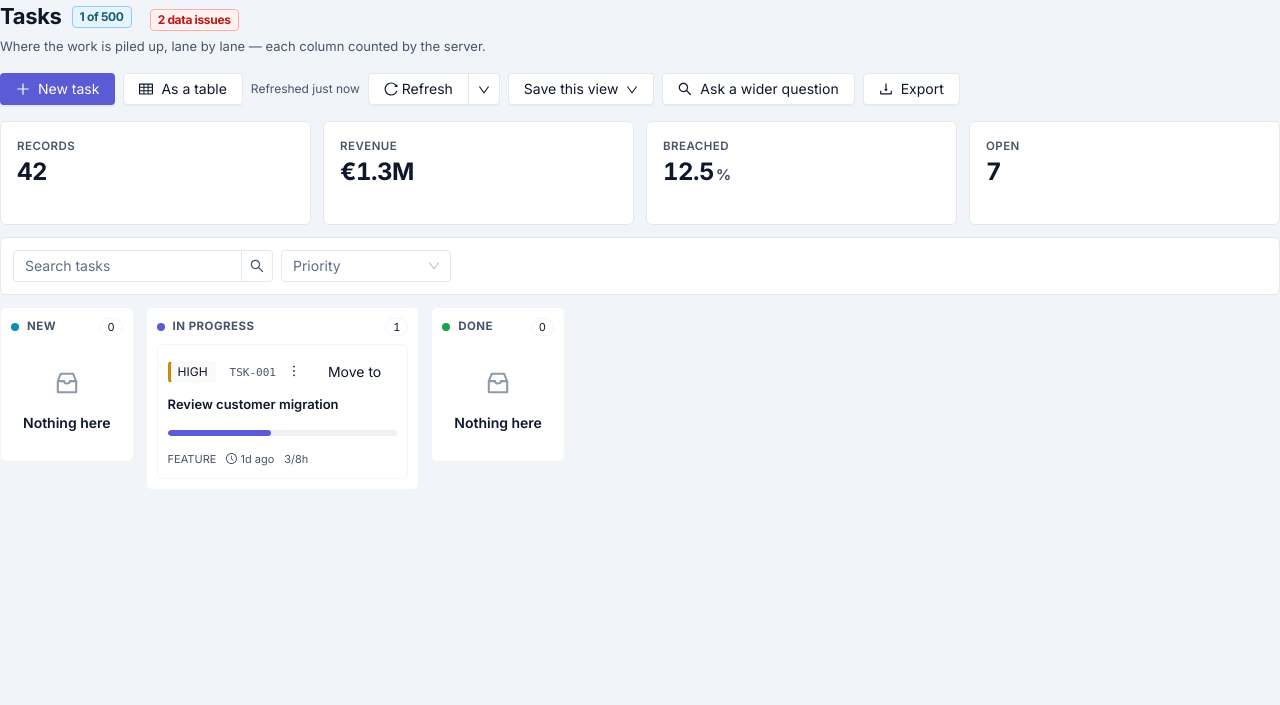
the edit form, before it has anything to show › retries a fault, and does not offer a retry for a refusal
Click the button named "Actions for " at [294, 371], box [282,359,306,383]
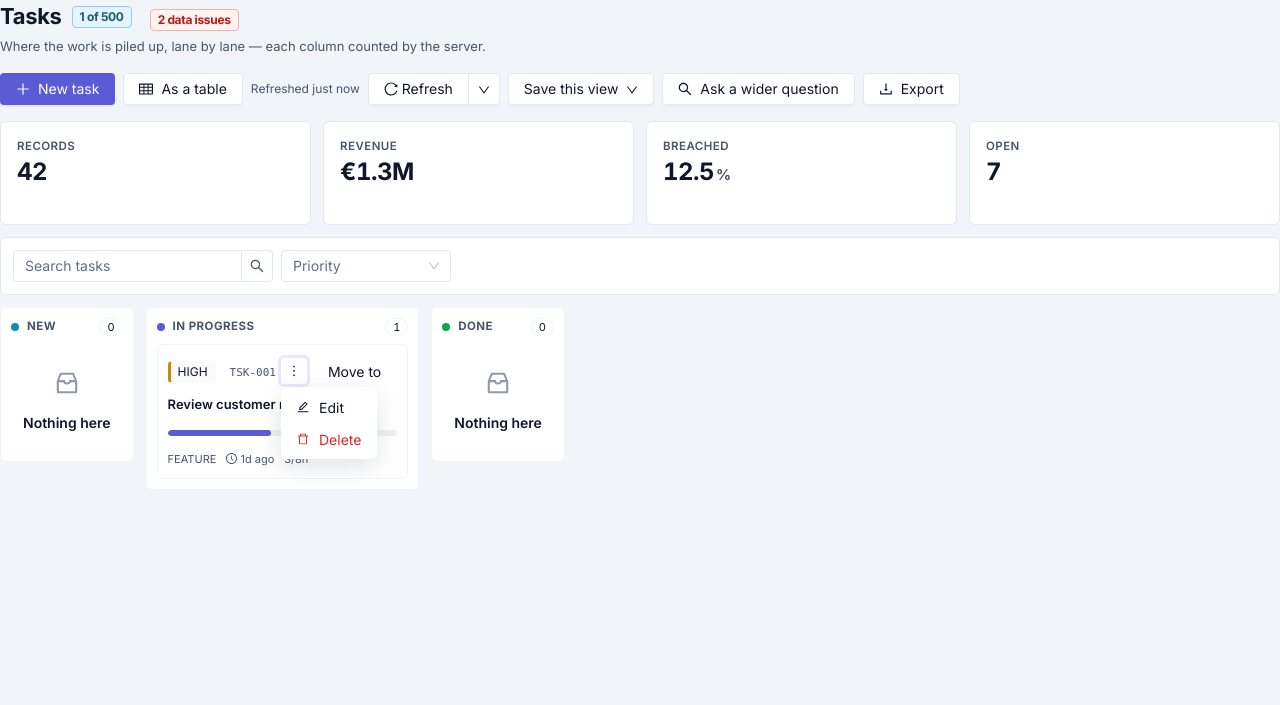
Click the menu item "Edit" at [320, 407], box [297,398,344,416]
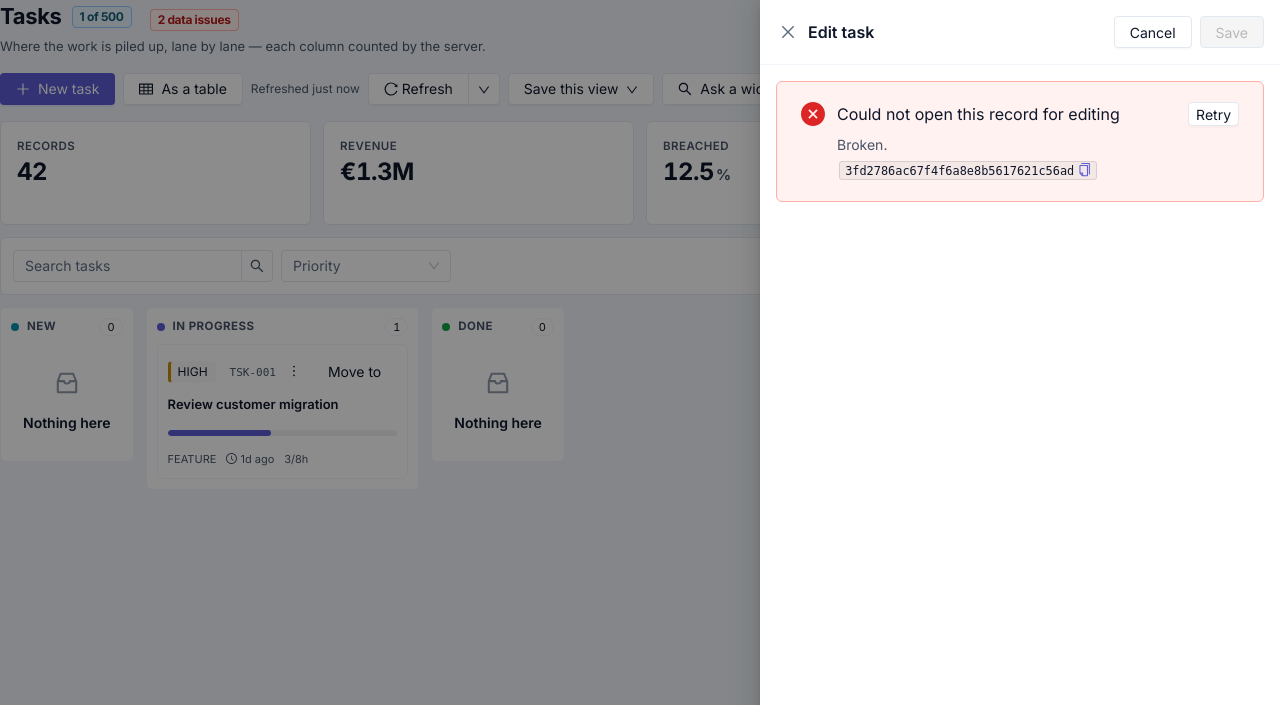
Expected: the message with test id "failure-alert" is shown, [776,81,1264,202]
Click the button "Retry" at [1214, 114], box [1188,102,1239,126]
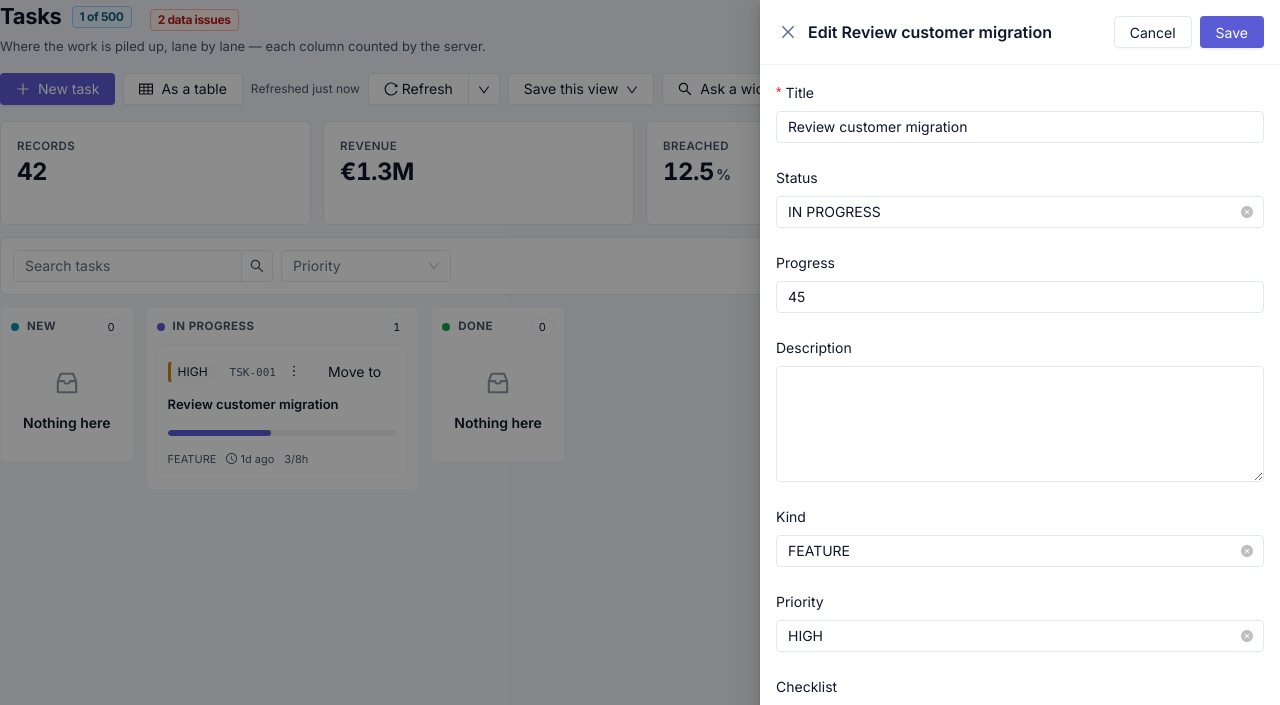
Expected: the field named "Title" is shown, [776,110,1264,142]
